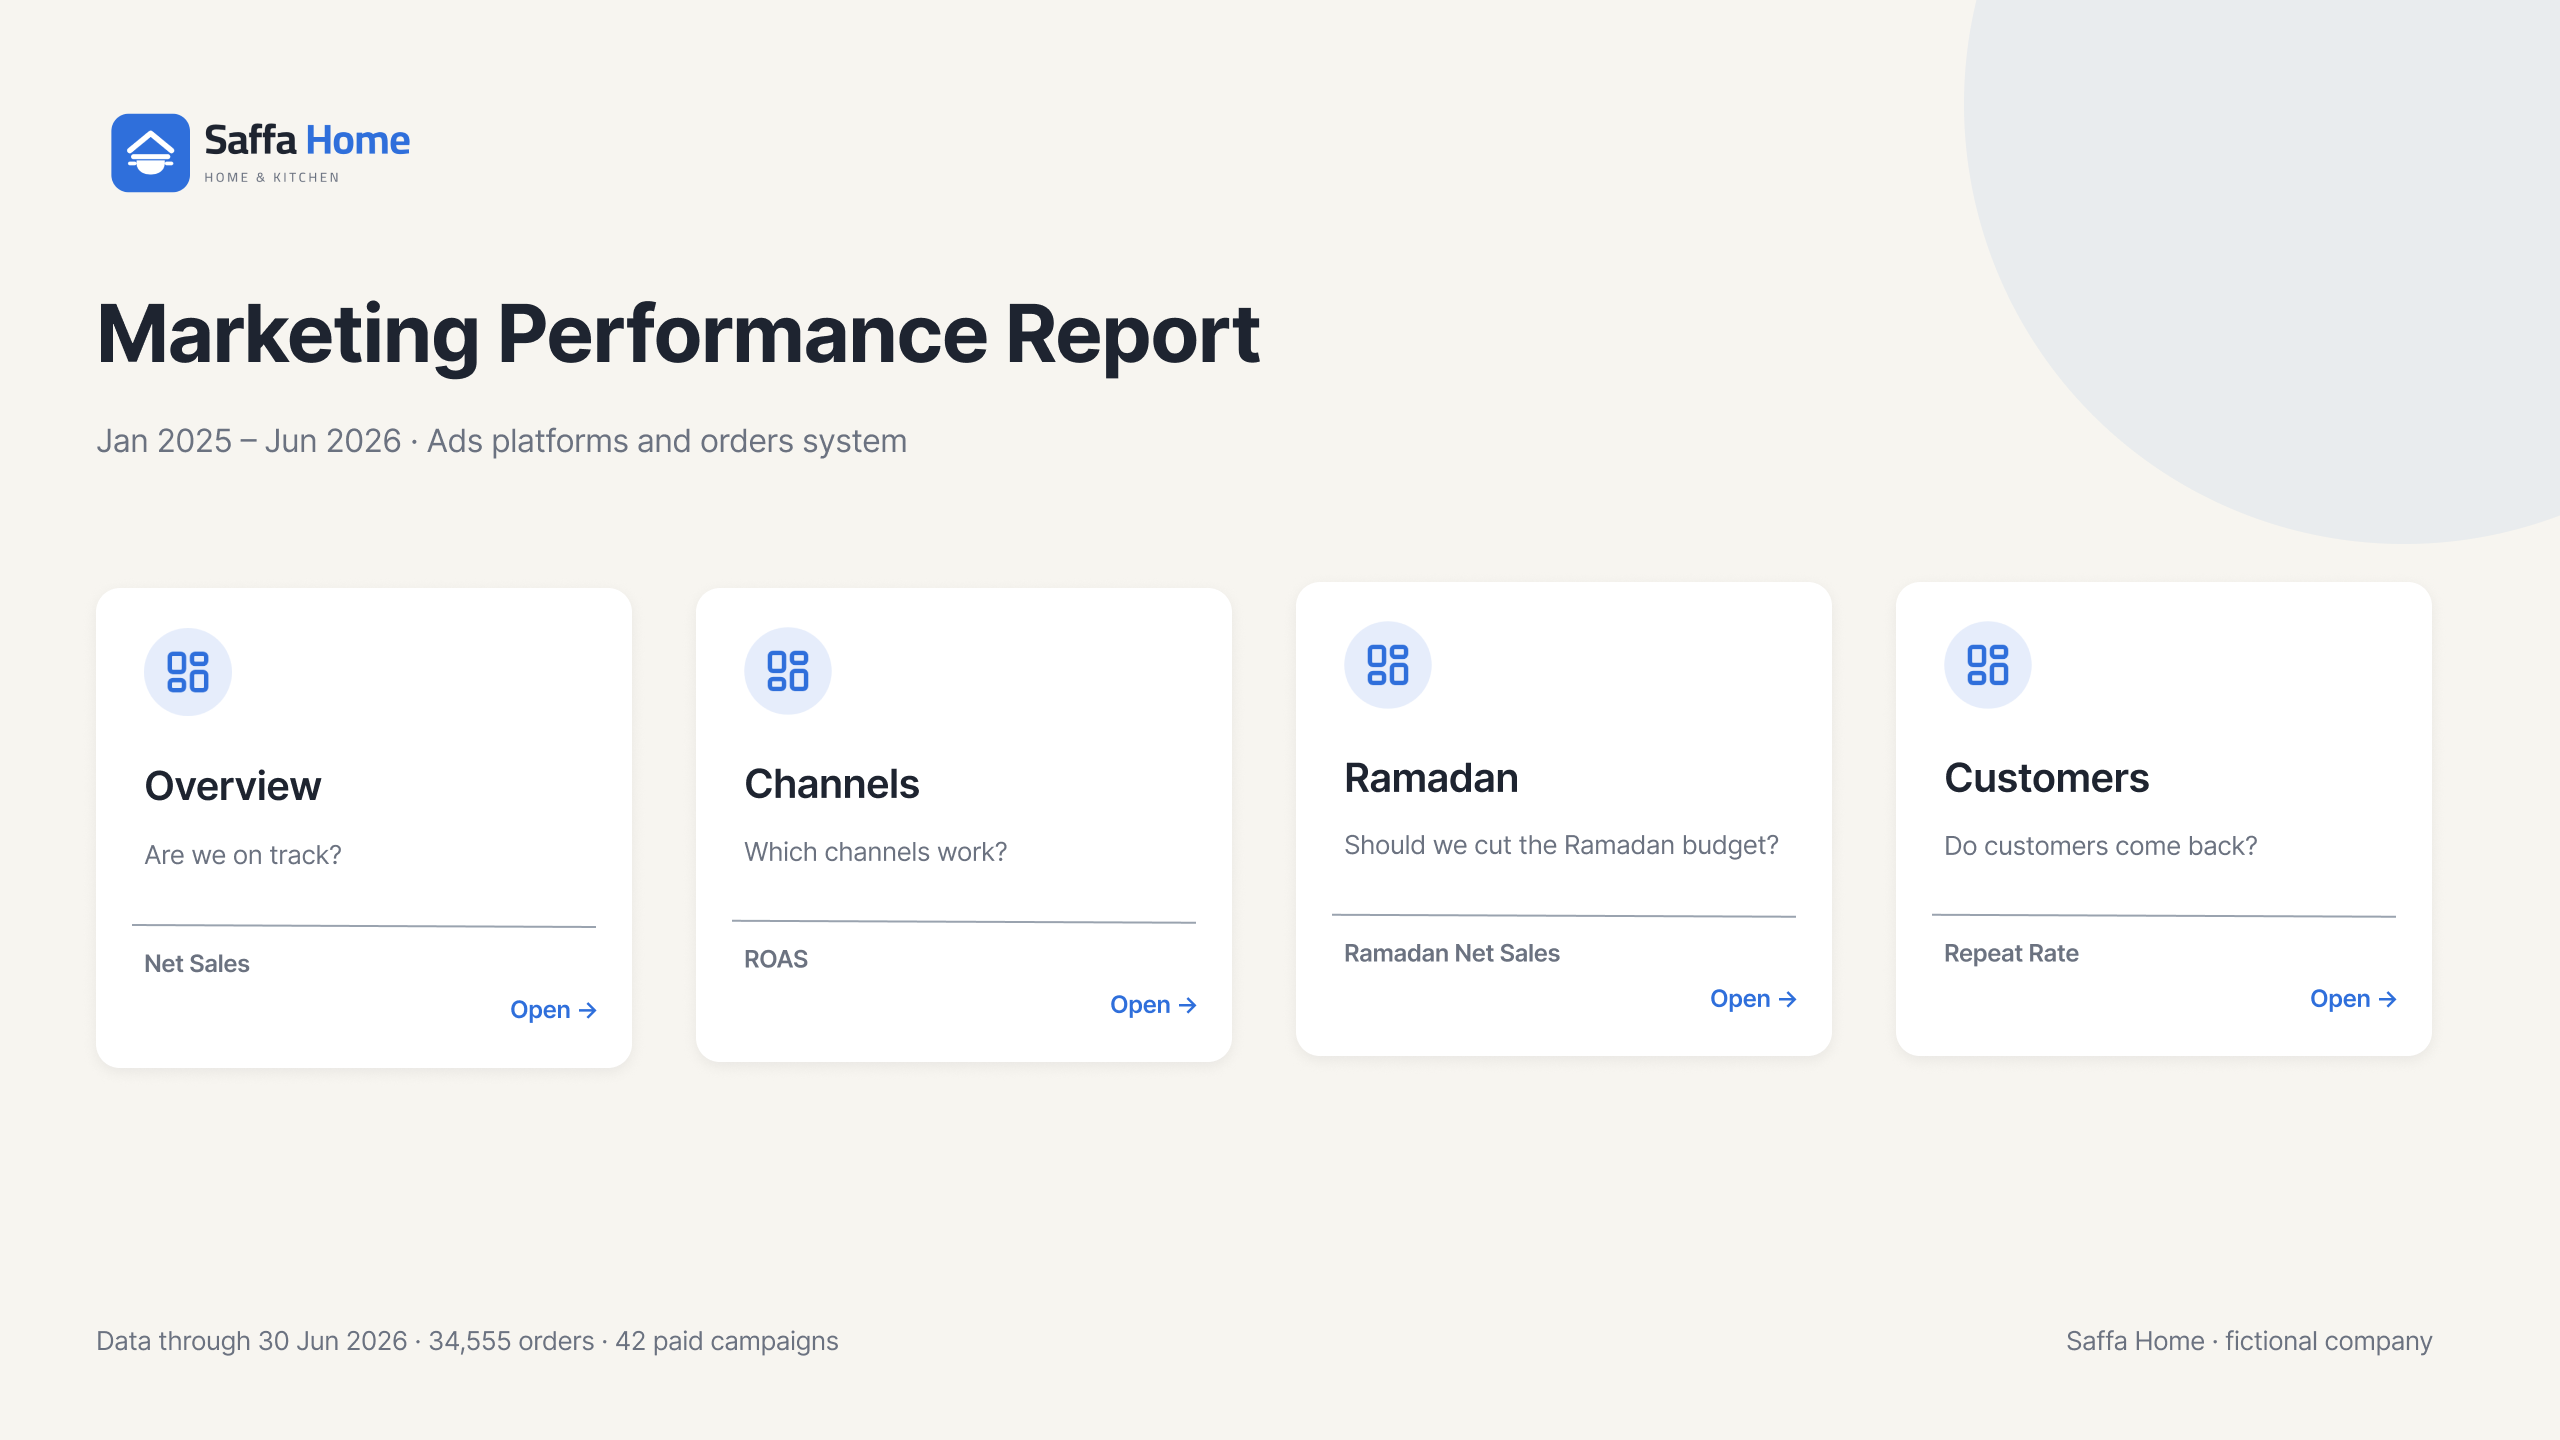

What the dashboard file says about the page in this screenshot:
{"tool":"powerbi","page":{"name":"Home","canvas":[1280,720],"ordinal":0},"visuals":[{"type":"card","fields":{"Values":["_Measures.Net Sales"]},"box":[57,461,120,77],"z":0},{"type":"card","fields":{"Values":["_Measures.ROAS"]},"box":[344,461,120,77],"z":1000},{"type":"card","fields":{"Values":["_Measures.Ramadan Net Sales"]},"box":[670,461,120,77],"z":2000},{"type":"card","fields":{"Values":["_Measures.Repeat Customer Rate"]},"box":[977,461,120,77],"z":3000},{"type":"actionButton","box":[50,289,284,240],"z":4000},{"type":"actionButton","box":[354,289,286,240],"z":5000},{"type":"actionButton","box":[661.1,289.4,285,239.5],"z":5001},{"type":"actionButton","box":[967.9,288.3,285,239.5],"z":5002}]}

Visuals, with their boxes in screenshot pixels (x1, y1, x2, y2), scaled from the page's 1280x720 canvas onto the 2560x1440 screenshot:
card - _Measures.Net Sales: BBox(114, 922, 354, 1076)
card - _Measures.ROAS: BBox(688, 922, 928, 1076)
card - _Measures.Ramadan Net Sales: BBox(1340, 922, 1580, 1076)
card - _Measures.Repeat Customer Rate: BBox(1954, 922, 2194, 1076)
actionButton: BBox(100, 578, 668, 1058)
actionButton: BBox(708, 578, 1280, 1058)
actionButton: BBox(1322, 579, 1892, 1058)
actionButton: BBox(1936, 577, 2506, 1056)
